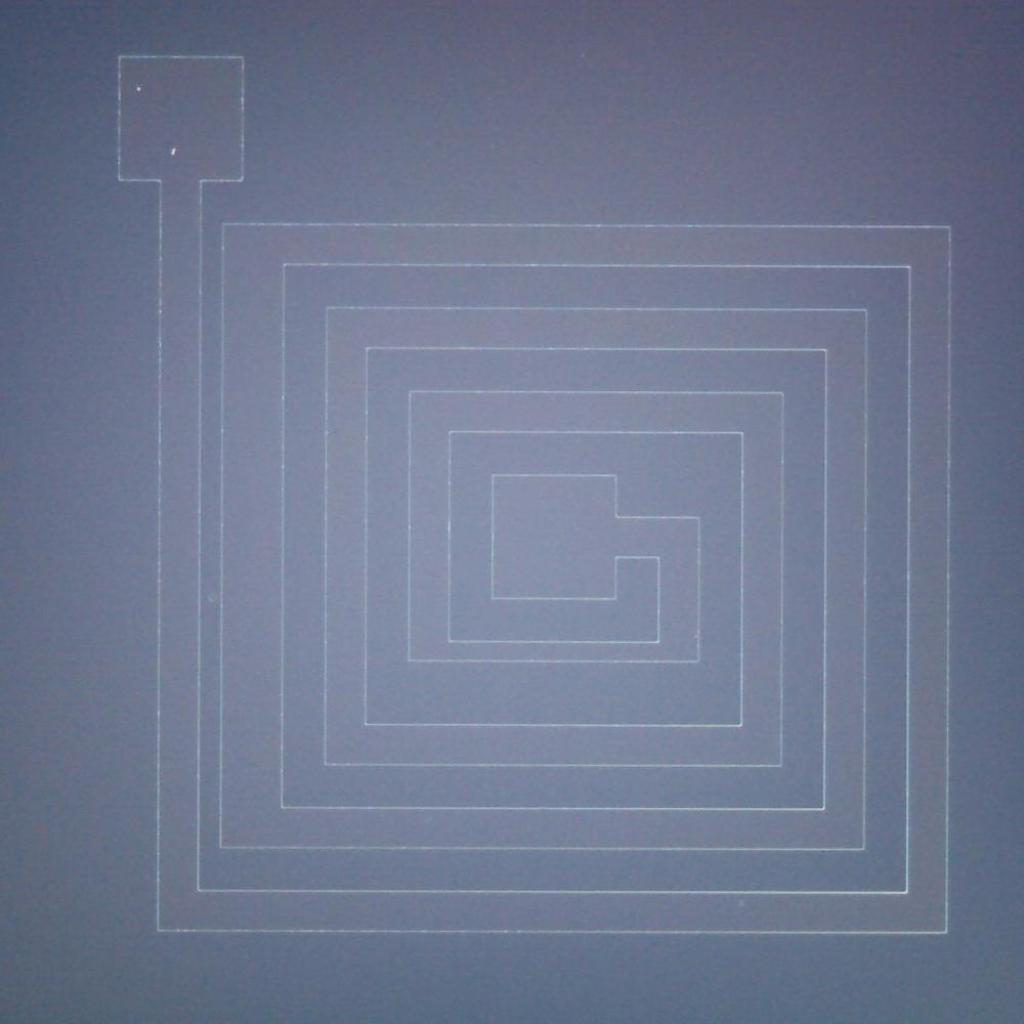dot: (170, 148, 178, 156), (137, 87, 141, 91)
